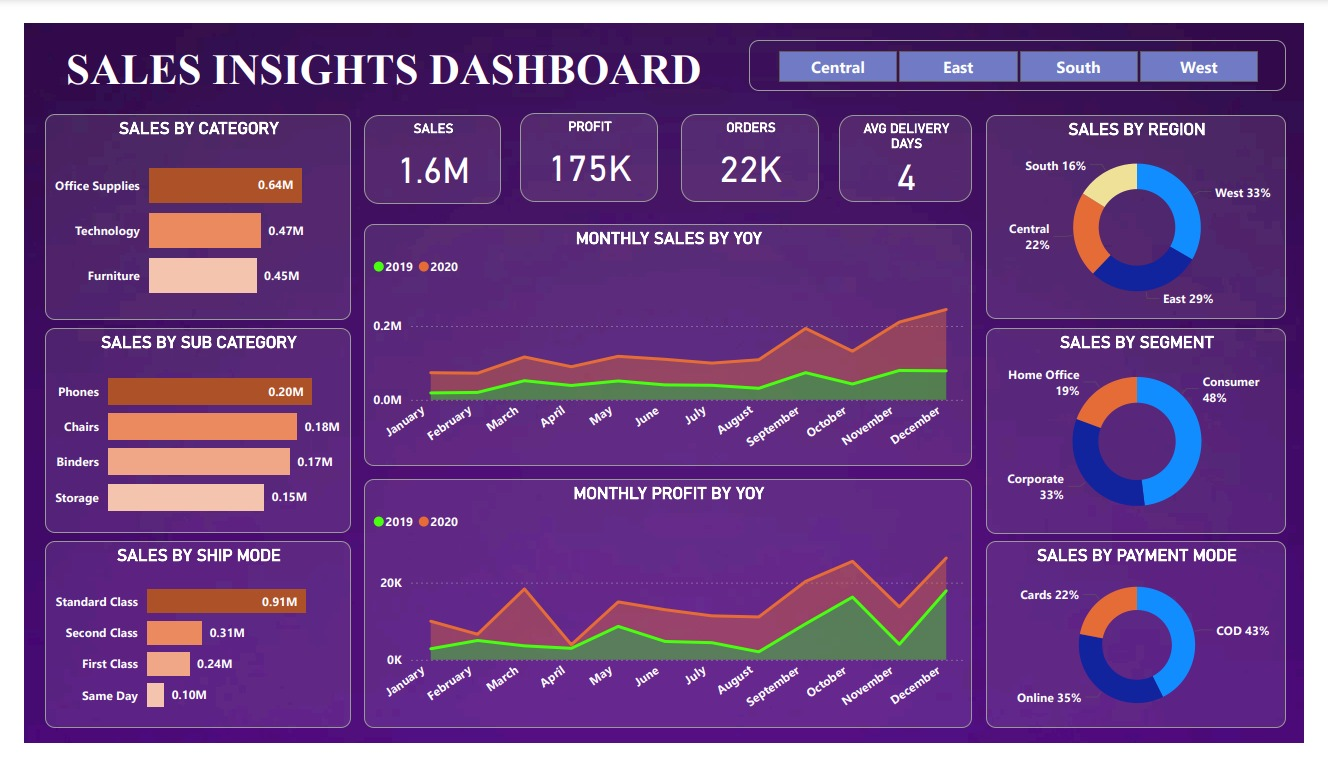

The dashboard page shown, as its layout file describes it:
{"tool":"powerbi","page":{"name":"Sales Insights","canvas":[1280,720],"ordinal":0},"visuals":[{"type":"clusteredBarChart","title":"SALES BY CATEGORY","fields":{"Category":["SuperStore_Sales_Dataset.Category"],"Y":["Sum(SuperStore_Sales_Dataset.Sales)"]},"box":[21.3,91.1,305.3,205.9],"z":0},{"type":"stackedAreaChart","title":"MONTHLY SALES BY YOY","fields":{"Category":["SuperStore_Sales_Dataset.Order Date.Variation.Date Hierarchy.Month","SuperStore_Sales_Dataset.Order Date.Variation.Date Hierarchy.Day"],"Y":["Sum(SuperStore_Sales_Dataset.Sales)"],"Series":["SuperStore_Sales_Dataset.Order Year"]},"box":[339.6,201.2,608.3,241.4],"z":1000},{"type":"clusteredBarChart","title":"SALES BY SUB CATEGORY","fields":{"Y":["Sum(SuperStore_Sales_Dataset.Sales)"],"Category":["SuperStore_Sales_Dataset.Sub-Category"]},"box":[21.3,305.3,305.3,204.7],"z":2000},{"type":"clusteredBarChart","title":"SALES BY SHIP MODE","fields":{"Y":["Sum(SuperStore_Sales_Dataset.Sales)"],"Category":["SuperStore_Sales_Dataset.Ship Mode"]},"box":[21.3,518.3,305.3,187],"z":3000},{"type":"stackedAreaChart","title":"MONTHLY PROFIT BY YOY","fields":{"Category":["SuperStore_Sales_Dataset.Order Date.Variation.Date Hierarchy.Month","SuperStore_Sales_Dataset.Order Date.Variation.Date Hierarchy.Day"],"Series":["SuperStore_Sales_Dataset.Order Year"],"Y":["Sum(SuperStore_Sales_Dataset.Profit)"]},"box":[339.6,455.6,608.3,249.7],"z":4000},{"type":"donutChart","title":"SALES BY REGION","fields":{"Y":["Sum(SuperStore_Sales_Dataset.Sales)"],"Category":["SuperStore_Sales_Dataset.Region"]},"box":[961.8,92.1,300,203.9],"z":5000},{"type":"donutChart","title":"SALES BY PAYMENT MODE","fields":{"Y":["Sum(SuperStore_Sales_Dataset.Sales)"],"Category":["SuperStore_Sales_Dataset.Payment Mode"]},"box":[962.1,518.3,299.4,187],"z":6000},{"type":"slicer","fields":{"Values":["SuperStore_Sales_Dataset.Region"]},"box":[725.4,16.9,536.6,50.7],"z":7000},{"type":"card","title":"SALES","fields":{"Values":["Sum(SuperStore_Sales_Dataset.Sales)"]},"box":[339.6,92.3,137.3,88.8],"z":8000},{"type":"card","title":"AVG DELIVERY DAYS","fields":{"Values":["Avg(SuperStore_Sales_Dataset.AvgDelivery)"]},"box":[815.5,91.5,132.4,87.3],"z":9000},{"type":"card","title":"PROFIT","fields":{"Values":["Sum(SuperStore_Sales_Dataset.Profit)"]},"box":[495.7,89.9,138.4,89.1],"z":10000},{"type":"card","title":"ORDERS","fields":{"Values":["Sum(SuperStore_Sales_Dataset.Quantity)"]},"box":[656.8,91.1,138.5,87.6],"z":11000},{"type":"textbox","box":[21.1,17.1,677.6,72.4],"z":12000},{"type":"donutChart","title":"SALES BY SEGMENT","fields":{"Category":["SuperStore_Sales_Dataset.Segment"],"Y":["Sum(SuperStore_Sales_Dataset.Sales)"]},"box":[961.8,305.3,300,205.3],"z":13001}]}

Visuals, with their boxes in screenshot pixels (x1, y1, x2, y2), scaled from the page's 1280x720 canvas onto the 1328x767 screenshot:
"SALES BY CATEGORY" clusteredBarChart: x1=22 y1=97 x2=339 y2=316
"MONTHLY SALES BY YOY" stackedAreaChart: x1=352 y1=214 x2=983 y2=471
"SALES BY SUB CATEGORY" clusteredBarChart: x1=22 y1=325 x2=339 y2=543
"SALES BY SHIP MODE" clusteredBarChart: x1=22 y1=552 x2=339 y2=751
"MONTHLY PROFIT BY YOY" stackedAreaChart: x1=352 y1=485 x2=983 y2=751
"SALES BY REGION" donutChart: x1=998 y1=98 x2=1309 y2=315
"SALES BY PAYMENT MODE" donutChart: x1=998 y1=552 x2=1309 y2=751
slicer - SuperStore_Sales_Dataset.Region: x1=753 y1=18 x2=1309 y2=72
"SALES" card: x1=352 y1=98 x2=495 y2=193
"AVG DELIVERY DAYS" card: x1=846 y1=97 x2=983 y2=190
"PROFIT" card: x1=514 y1=96 x2=658 y2=191
"ORDERS" card: x1=681 y1=97 x2=825 y2=190
textbox: x1=22 y1=18 x2=725 y2=95
"SALES BY SEGMENT" donutChart: x1=998 y1=325 x2=1309 y2=544
